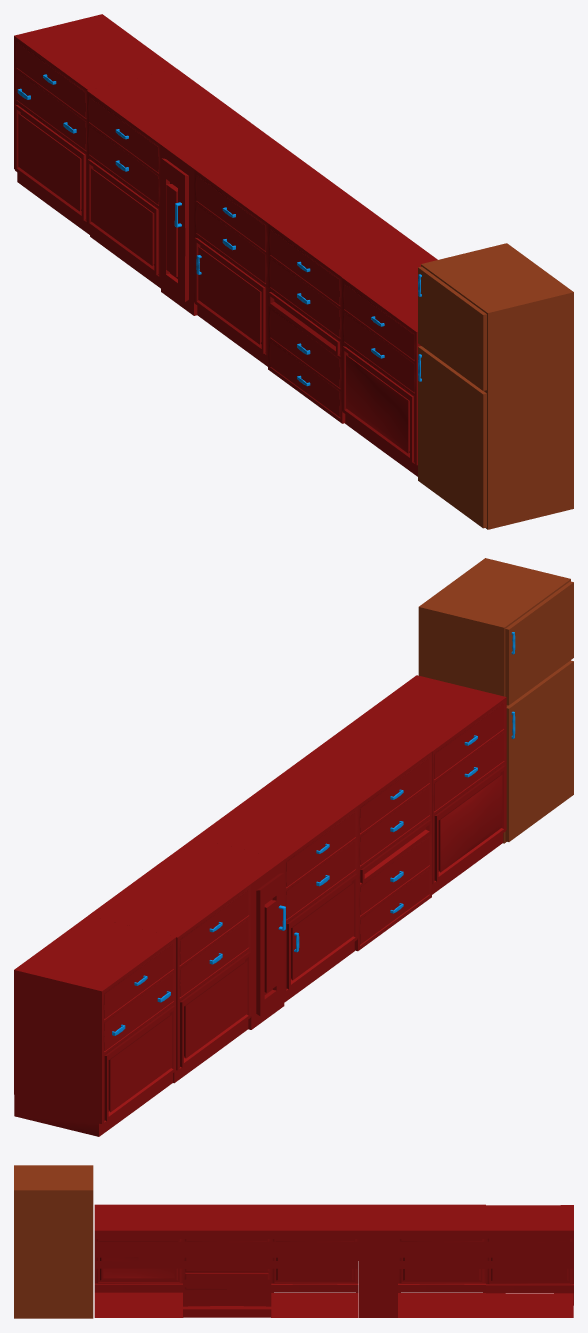
Rendered from IYG.fbx.
3 renders of one model, top to bottom at view 1: azimuth 30°, elevation 25°; view 2: azimuth 150°, elevation 25°; view 3: azimuth 270°, elevation 25°, orthographic. The views are drawn at different scales.
Parts seen in each view (by area): view 1: tiroirdubas; view 2: tiroirdubas; view 3: tiroirdubas.
Part boxes in pixels (bbox=[...]): tiroirdubas: bbox=[14, 14, 573, 529]; tiroirdubas: bbox=[14, 558, 573, 1136]; tiroirdubas: bbox=[14, 1165, 573, 1318].
Bounding box in the file's own units: 46.06 × 95.74 × 378.
